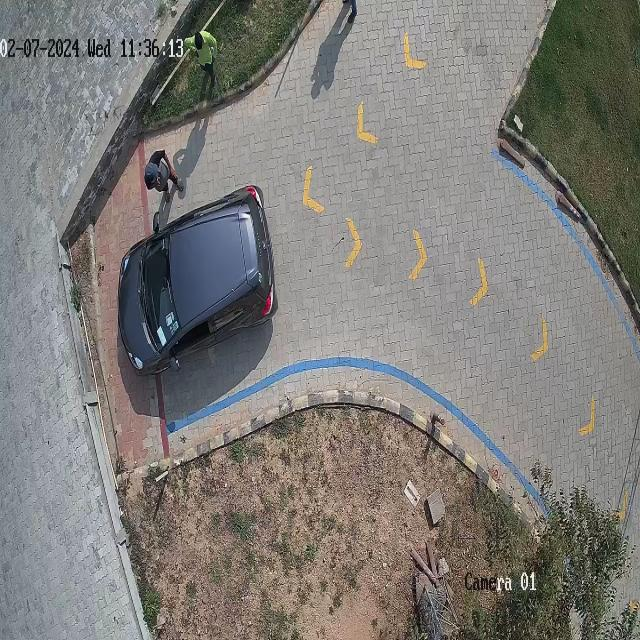car: (118, 187, 278, 372)
